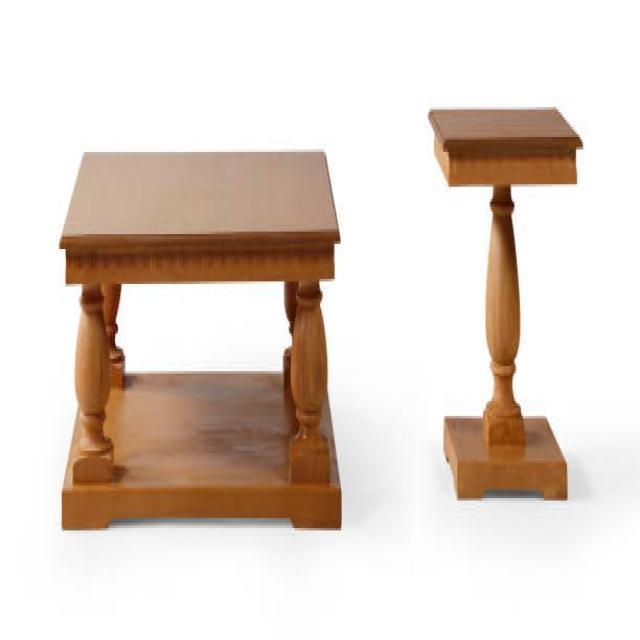table: (59, 147, 342, 530), (427, 104, 582, 500)
